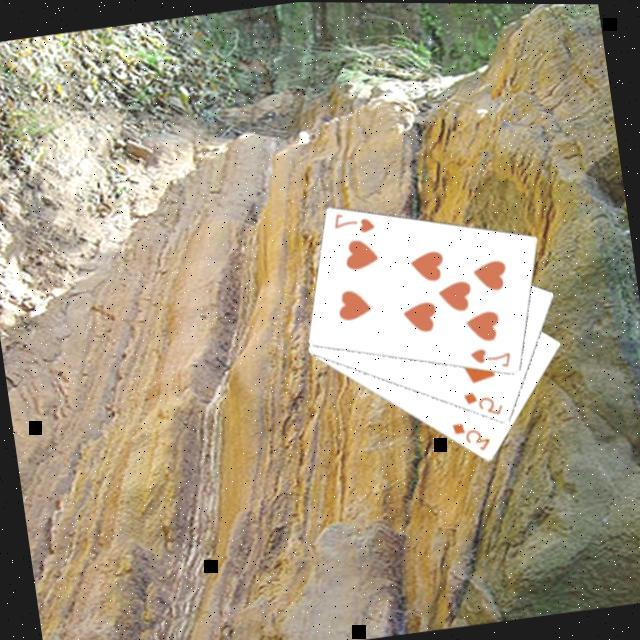3D: (449, 418, 496, 460)
5D: (461, 387, 508, 424)
7H: (468, 342, 516, 377), (331, 208, 380, 242)
